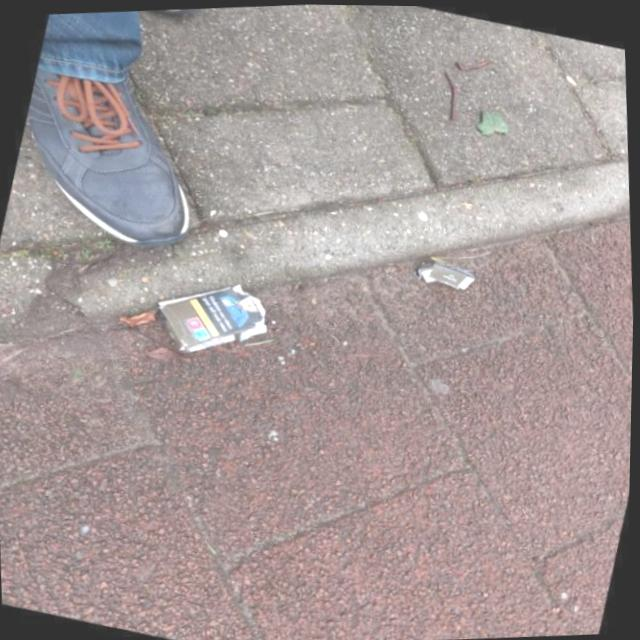Paper: (153, 278, 280, 358), (411, 251, 480, 293)
